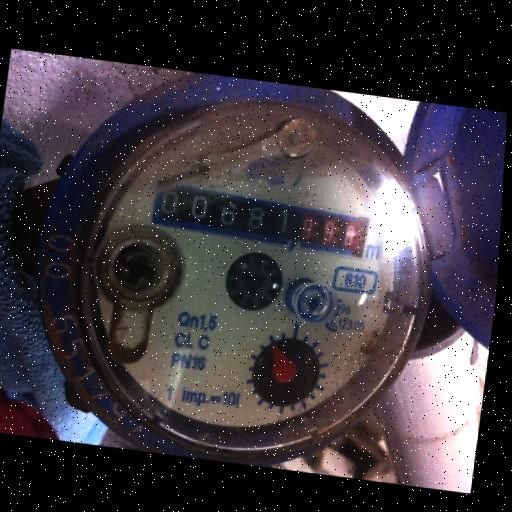0: (158, 185, 183, 220), (187, 190, 212, 224), (340, 219, 360, 253)
1: (273, 207, 293, 239)
6: (216, 196, 242, 230)
8: (244, 202, 269, 236)
9: (298, 212, 319, 245), (320, 215, 340, 248)
border_water_meter_number: (149, 179, 372, 259)
